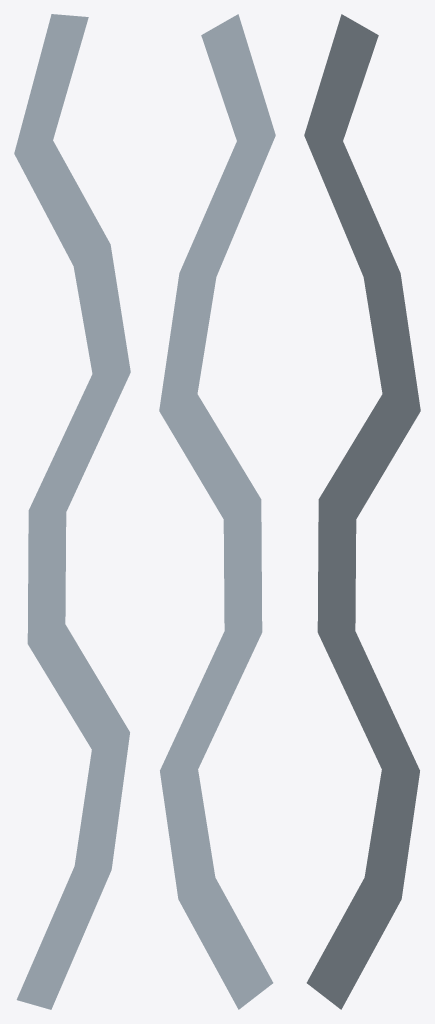
The model's file is 2085_ThunderWave_2Rounds_CosmeticColumn_29_5.fbx.
The picture shows the model from 3 angles, left to right: view 1: azimuth 30°, elevation 25°; view 2: azimuth 210°, elevation 25°; view 3: azimuth 330°, elevation 25°; orthographic projection.
Parts seen in each view (by area): view 1: PART_CosmeticColumn_29_5; view 2: PART_CosmeticColumn_29_5; view 3: PART_CosmeticColumn_29_5.
Boxes of the visible parts, x1,y1,x2,y2 form: PART_CosmeticColumn_29_5: (14,14,130,1009); PART_CosmeticColumn_29_5: (159,14,275,1009); PART_CosmeticColumn_29_5: (304,14,420,1009).
Size of the model in its own units: 14.94 by 122 by 1.99e-05.
